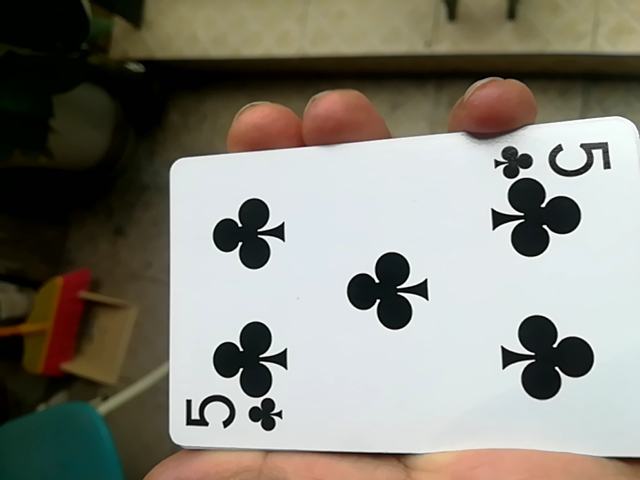mh 5: (158, 121, 634, 456)
